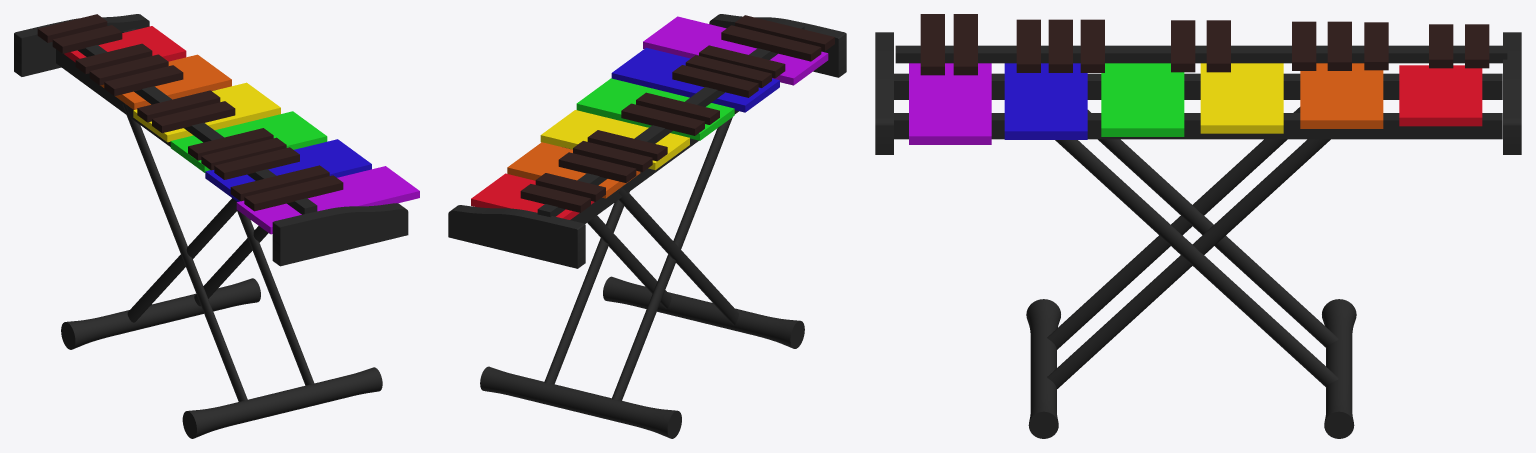
The model's file is unity - xylofoon model colors small 2.fbx.
3 renders of one model, left to right at view 1: azimuth 30°, elevation 25°; view 2: azimuth 150°, elevation 25°; view 3: azimuth 270°, elevation 25°, orthographic. The views are drawn at different scales.
Visible parts, largest first — view 1: Cube.001, Cylinder, Cylinder.001, Cube.004, Cylinder.002, Cube.025, Cube.022, Cube.019, Cube.015, Cube.016, Cylinder.004, Cylinder.003 (+16 smaller); view 2: Cube.015, Cylinder.001, Cylinder, Cube.004, Cube.025, Cylinder.004, Cube.019, Cube.022, Cylinder.002, Cylinder.005, Cube.016, Cube.011 (+16 smaller); view 3: Cube.004, Cube.006, Cube.022, Cube, Cube.025, Cylinder.005, Cube.019, Cylinder.003, Cube.016, Cube.011, Cylinder.004, Cylinder.002 (+17 smaller).
Part boxes in pixels (x1=…): Cube.001: x1=272, y1=203, x2=408, y2=266; Cylinder: x1=182, y1=367, x2=382, y2=438; Cylinder.001: x1=61, y1=278, x2=260, y2=349; Cube.004: x1=236, y1=166, x2=419, y2=234; Cylinder.002: x1=122, y1=103, x2=247, y2=401; Cube.025: x1=205, y1=139, x2=371, y2=201; Cube.022: x1=170, y1=111, x2=327, y2=172; Cube.019: x1=133, y1=82, x2=280, y2=142; Cube.015: x1=14, y1=14, x2=149, y2=76; Cube.016: x1=100, y1=54, x2=231, y2=109; Cylinder.004: x1=127, y1=198, x2=237, y2=322; Cylinder.003: x1=237, y1=210, x2=314, y2=385; Cube.015: x1=448, y1=205, x2=585, y2=268; Cylinder.001: x1=480, y1=366, x2=681, y2=438; Cylinder: x1=603, y1=276, x2=804, y2=348; Cube.004: x1=643, y1=16, x2=828, y2=85; Cube.025: x1=611, y1=47, x2=779, y2=112; Cylinder.004: x1=612, y1=117, x2=732, y2=400; Cube.019: x1=540, y1=110, x2=689, y2=170; Cube.022: x1=576, y1=78, x2=734, y2=140; Cylinder.002: x1=618, y1=187, x2=738, y2=325; Cylinder.005: x1=544, y1=191, x2=629, y2=384; Cube.016: x1=507, y1=142, x2=640, y2=198; Cube.011: x1=471, y1=173, x2=594, y2=219; Cube.004: x1=909, y1=63, x2=991, y2=144; Cube.006: x1=895, y1=45, x2=1507, y2=63; Cube.022: x1=1101, y1=63, x2=1184, y2=136; Cube: x1=894, y1=113, x2=1502, y2=139; Cube.025: x1=1004, y1=63, x2=1087, y2=139; Cylinder.005: x1=1055, y1=140, x2=1338, y2=387; Cube.019: x1=1200, y1=63, x2=1283, y2=133; Cylinder.003: x1=1047, y1=139, x2=1330, y2=388; Cube.016: x1=1300, y1=63, x2=1383, y2=128; Cube.011: x1=1399, y1=65, x2=1482, y2=126; Cylinder.004: x1=1087, y1=110, x2=1338, y2=348; Cylinder.002: x1=1047, y1=107, x2=1300, y2=349.
Size of the model in its own units: 96.3 by 132 by 238.
